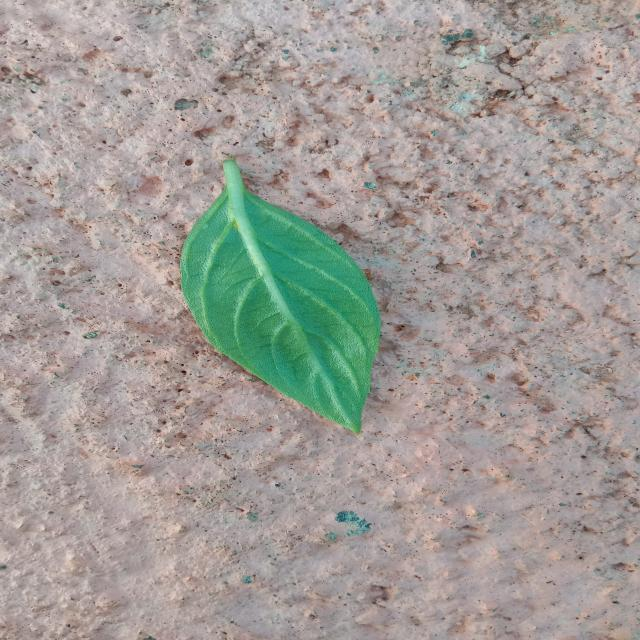kamakasturi: (181, 159, 380, 434)
